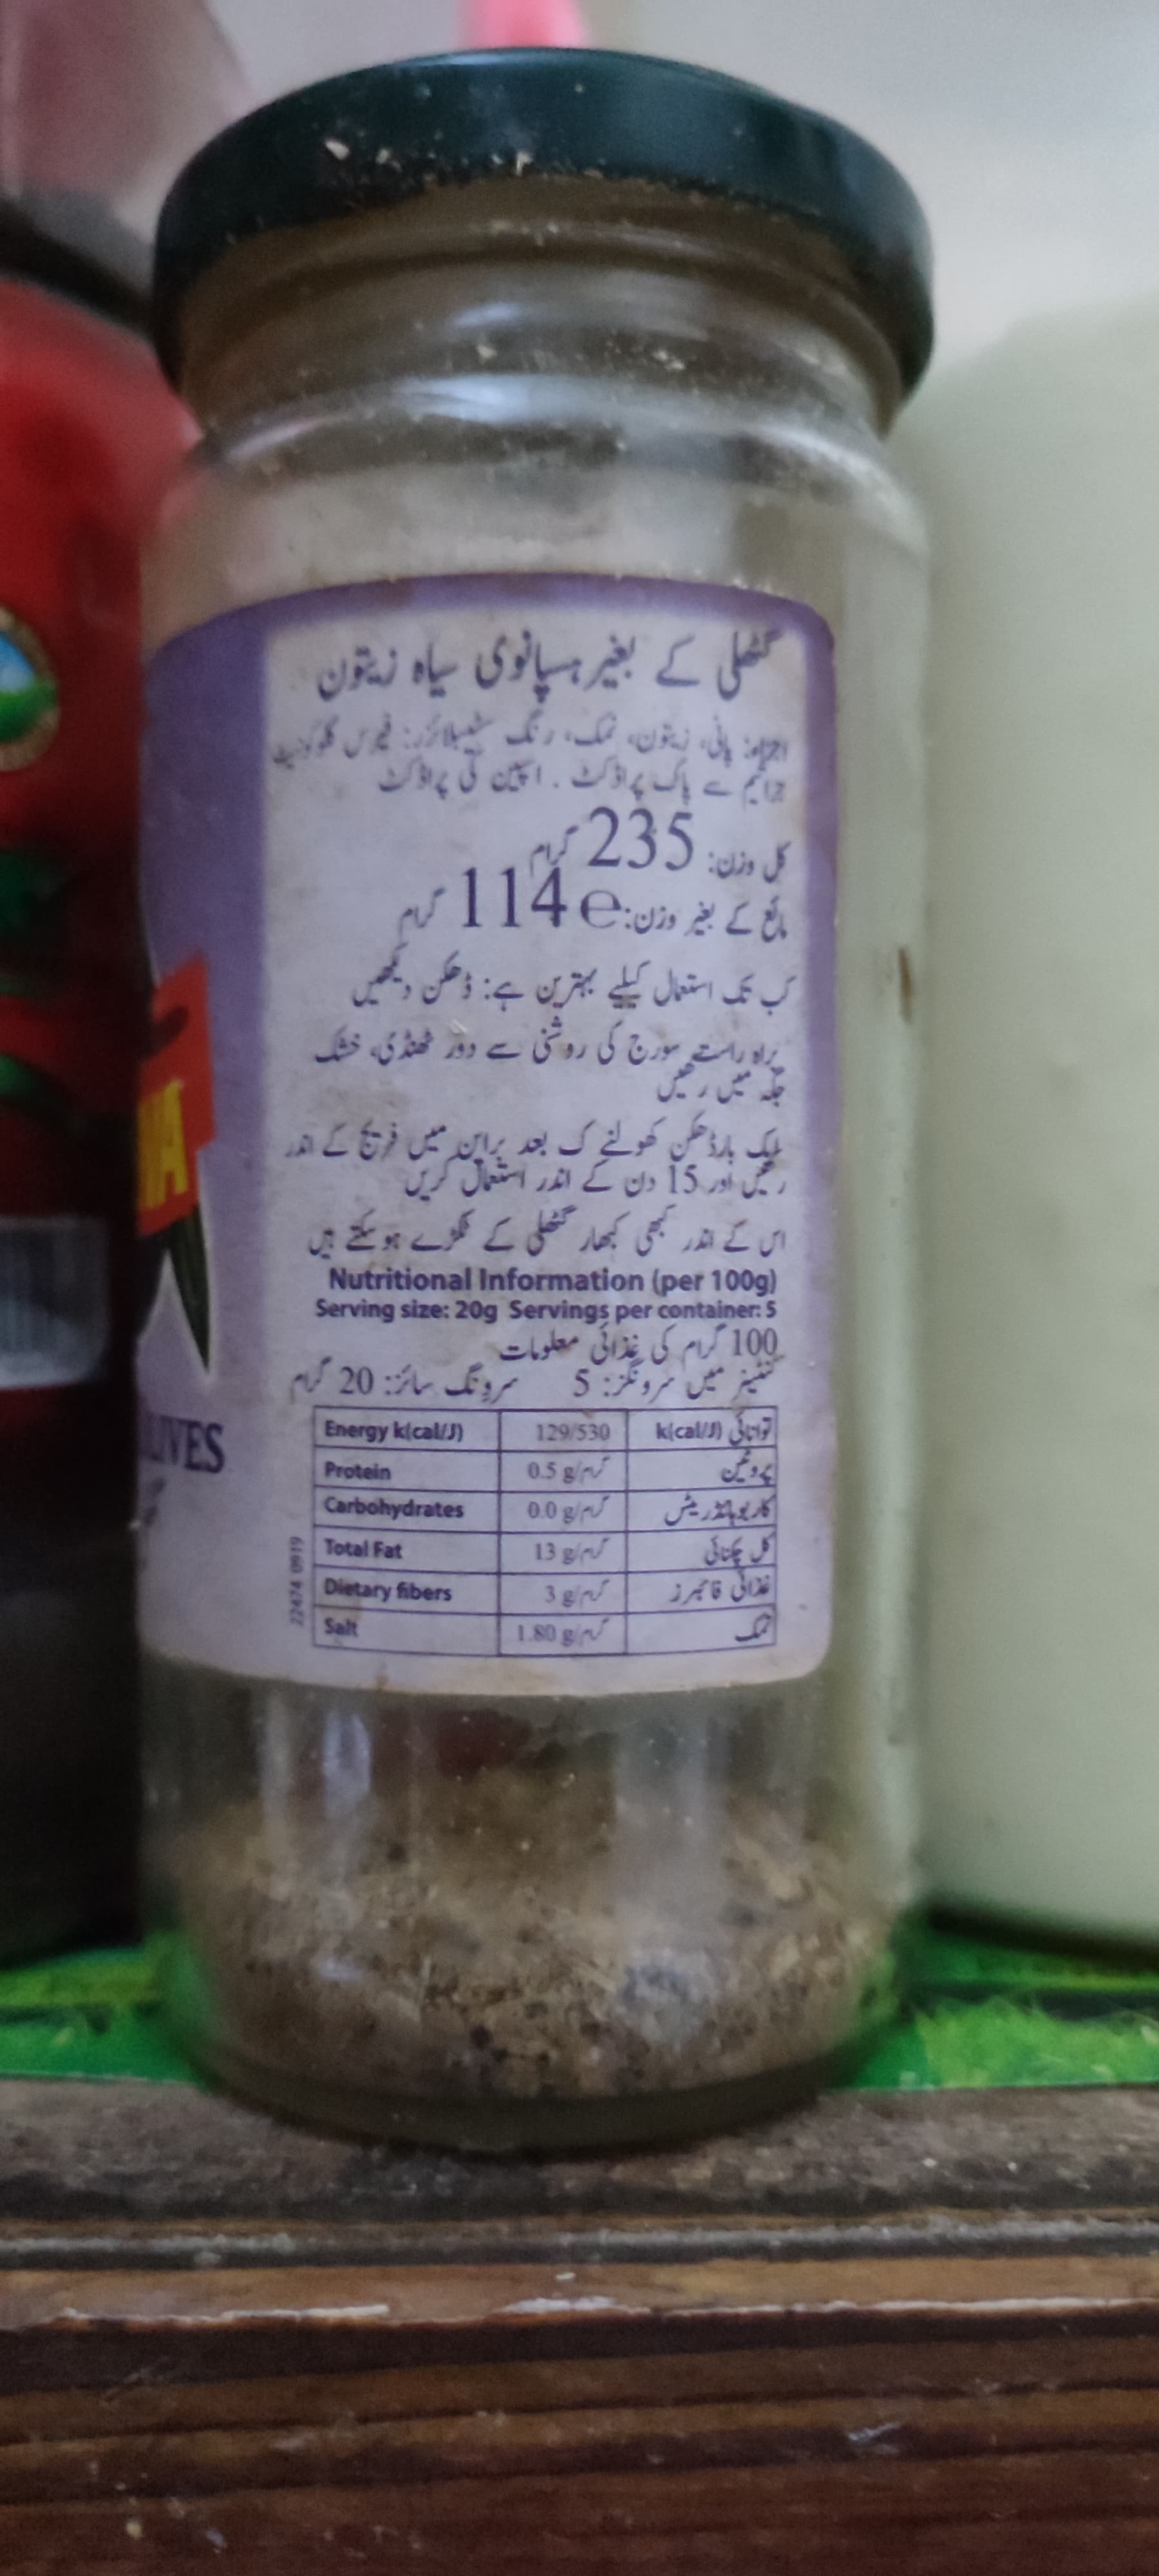table: (307, 1401, 793, 1663)
